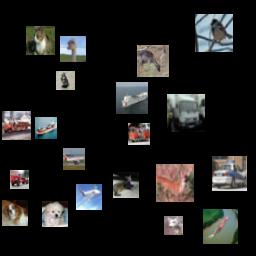airplane: (76, 184, 102, 210), (63, 148, 85, 170)
automobile: (212, 156, 247, 191)
bird: (195, 14, 233, 52), (60, 36, 86, 62), (56, 71, 75, 90)
cat: (26, 26, 55, 55), (113, 172, 139, 198)
deer: (156, 164, 194, 202), (137, 45, 169, 77)
dog: (2, 200, 28, 226), (42, 201, 68, 227), (164, 216, 183, 235)
ship: (203, 209, 238, 244), (116, 82, 148, 114), (35, 117, 57, 139)
truck: (167, 94, 205, 132), (2, 111, 31, 140), (128, 123, 150, 145), (10, 170, 29, 189)
